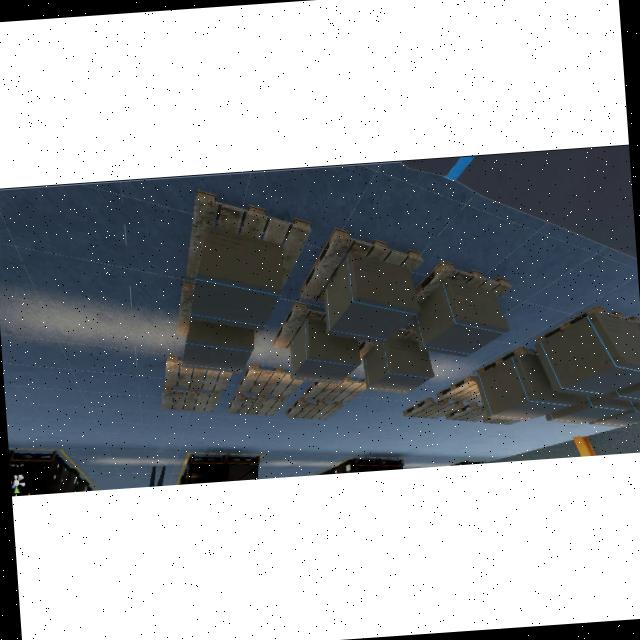wooden_pallet: (184, 191, 312, 289), (299, 226, 424, 303), (413, 261, 510, 307), (532, 305, 640, 344), (273, 302, 324, 350), (163, 356, 231, 391), (237, 365, 304, 396), (474, 346, 541, 376), (160, 385, 220, 414), (302, 376, 367, 402), (227, 391, 286, 417), (284, 396, 344, 421), (401, 397, 464, 420), (436, 375, 482, 403), (445, 402, 488, 422)
